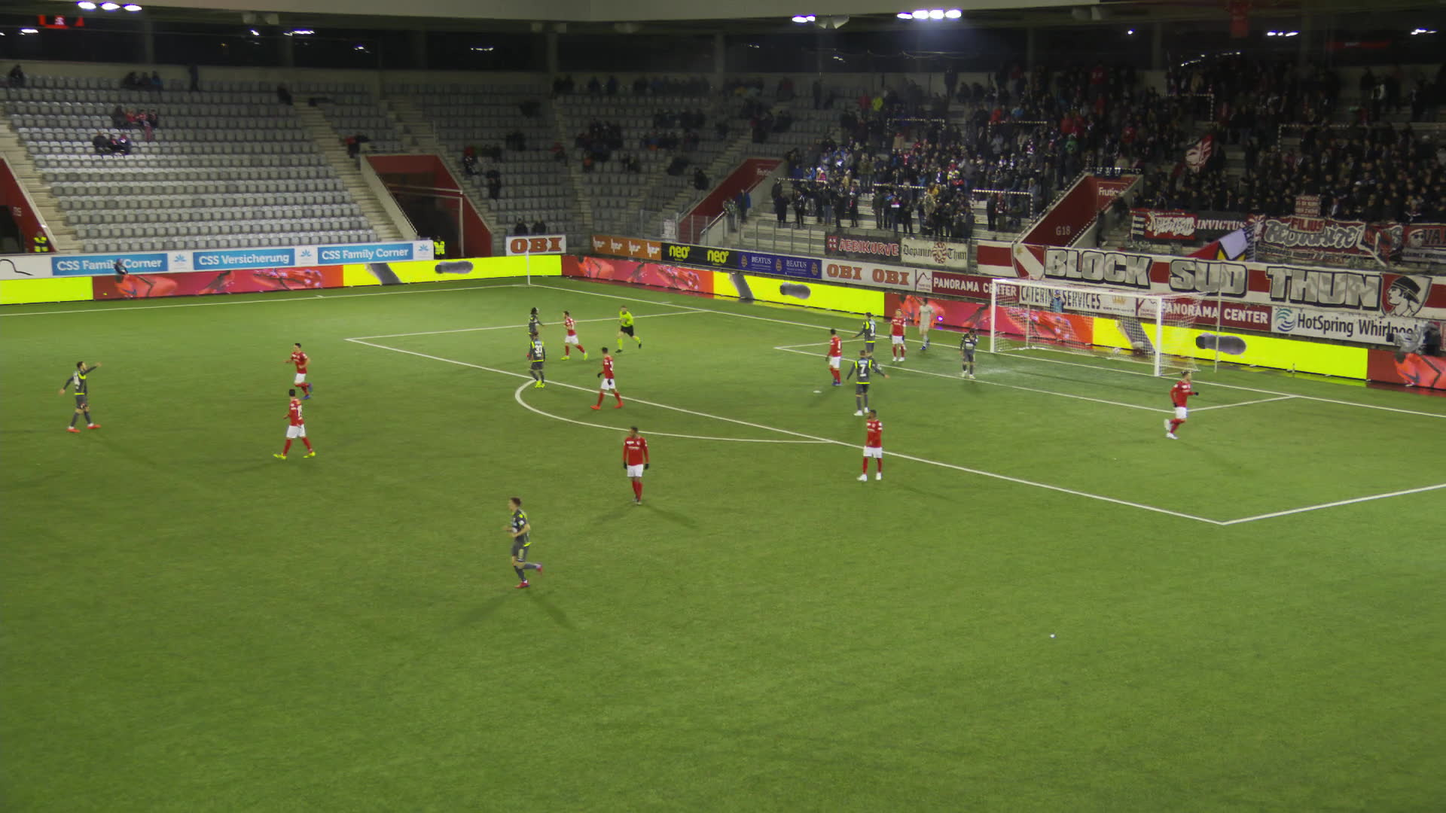ball: (1114, 346, 1120, 353), (903, 343, 907, 350)
player: (614, 417, 660, 513), (508, 495, 553, 589), (56, 358, 99, 434), (845, 349, 890, 416), (273, 388, 314, 459), (1163, 370, 1198, 440), (590, 346, 624, 410), (850, 312, 881, 373), (859, 408, 884, 481), (284, 343, 316, 400), (560, 310, 588, 361), (526, 306, 548, 359), (526, 331, 546, 388), (826, 327, 844, 385), (918, 297, 937, 349), (959, 328, 978, 379), (889, 308, 905, 361)
referee: (618, 304, 642, 351)
